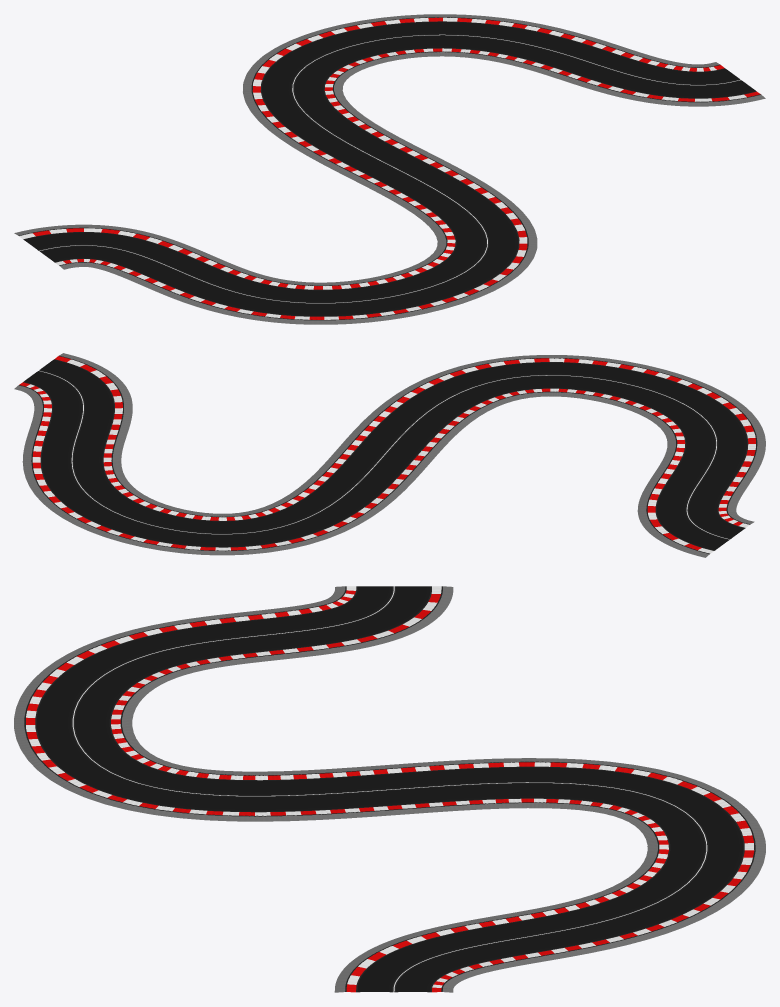
Rendered from S0.Group.202.export.A1M1H0chicaneRLhard.glb.
3 views of the same model, one above another, from view 1: azimuth 30°, elevation 25°; view 2: azimuth 150°, elevation 25°; view 3: azimuth 270°, elevation 25° (orthographic). The views are drawn at different scales.
Visible parts, largest first — view 1: Grid; view 2: Grid; view 3: Grid.
Boxes of the visible parts, bbox=[...] form: Grid: bbox=[14, 14, 765, 324]; Grid: bbox=[14, 353, 765, 557]; Grid: bbox=[14, 586, 765, 992].
Size of the model in its own units: 203 by 0.21 by 159.
